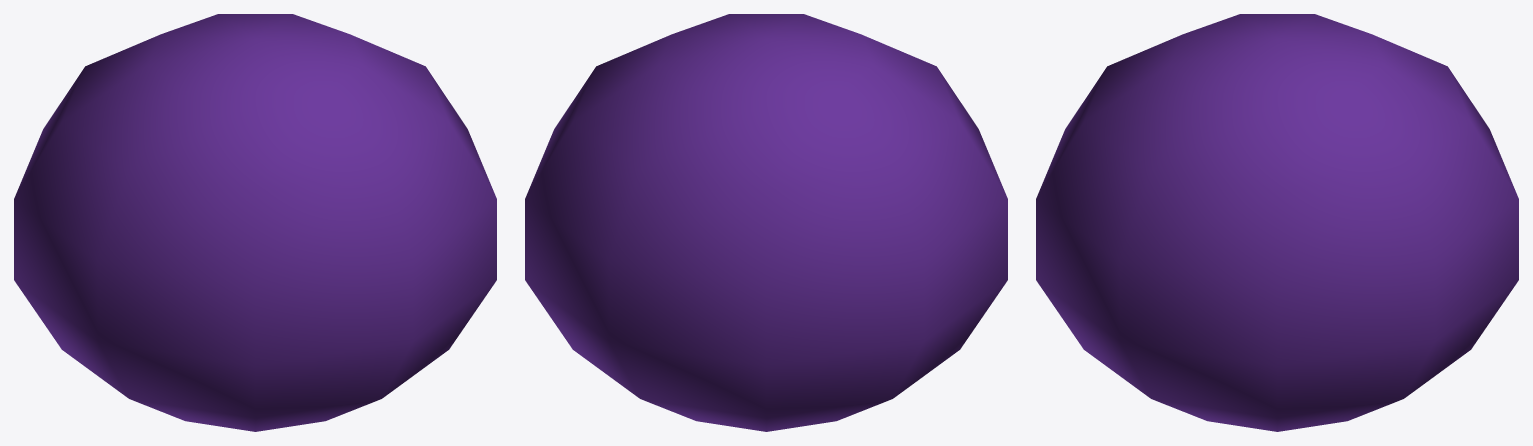
Rendered from mysticorb_stage1.obj.
3 renders of one model, left to right at view 1: azimuth 30°, elevation 25°; view 2: azimuth 150°, elevation 25°; view 3: azimuth 270°, elevation 25°, orthographic.
Bounding box in the file's own units: 1.23 × 1.04 × 1.25.
